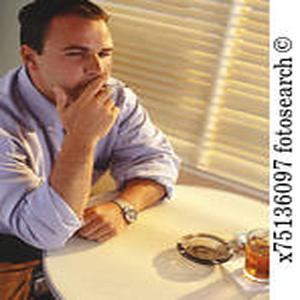cigarette: (101, 83, 131, 91)
